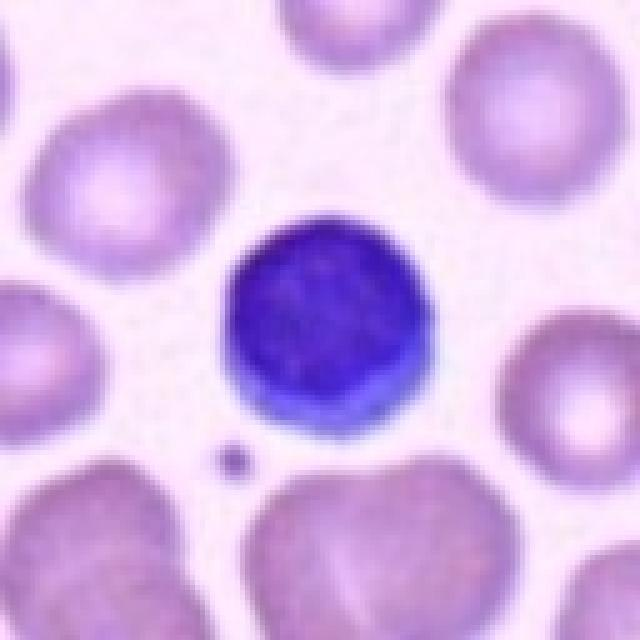lympho: (216, 203, 441, 447)
